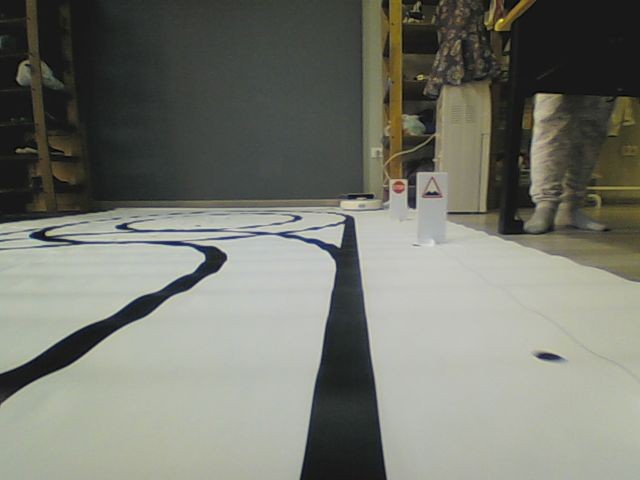Nerov: (419, 175, 444, 199)
